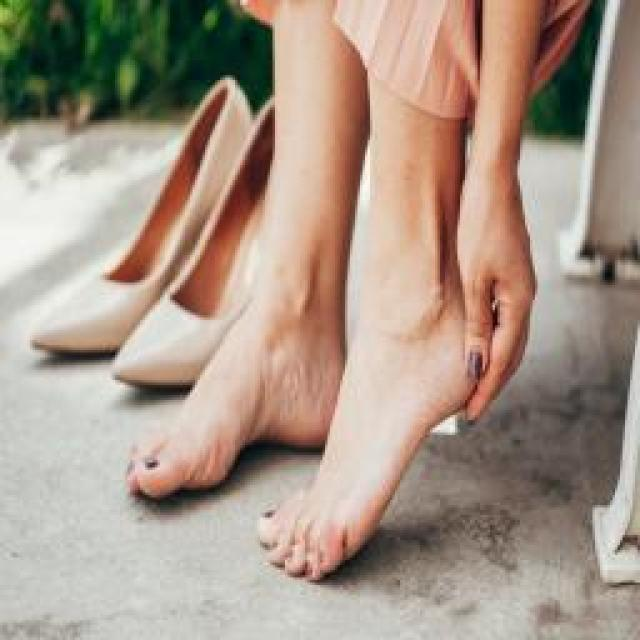No_Shoes: (270, 264, 534, 576), (59, 255, 343, 483)
